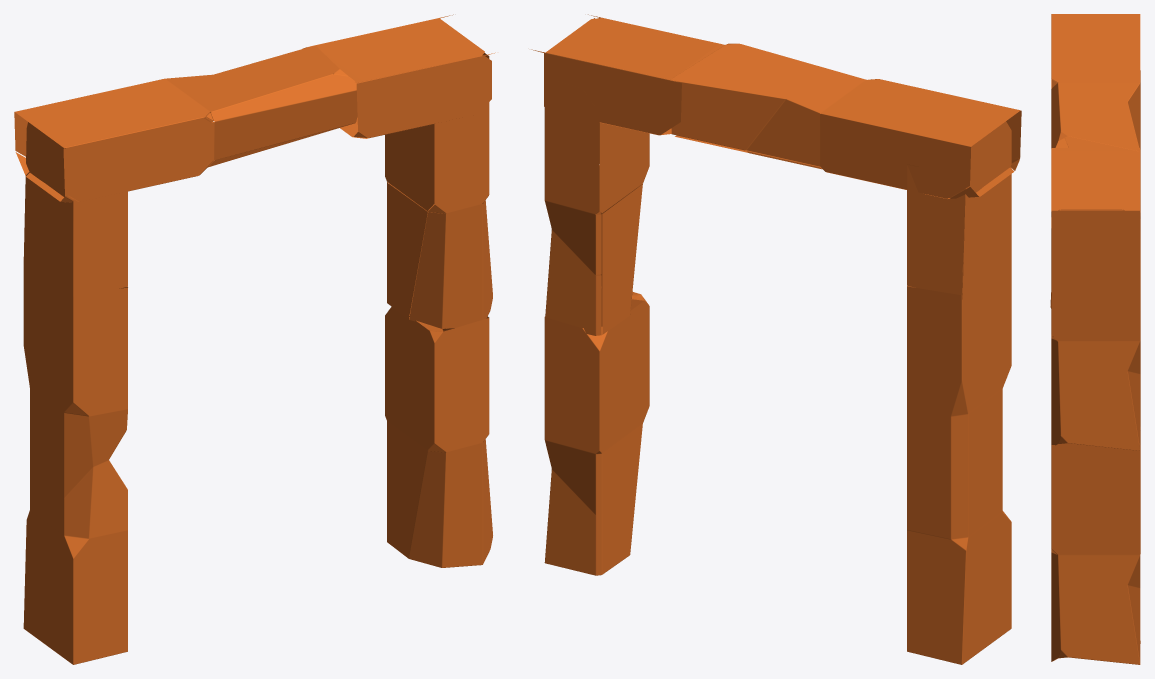
File: gate1.fbx
3 renders of one model, left to right at view 1: azimuth 30°, elevation 25°; view 2: azimuth 150°, elevation 25°; view 3: azimuth 270°, elevation 25°, orthographic. The views are drawn at different scales.
Parts seen in each view (by area): view 1: Plane; view 2: Plane; view 3: Plane.
Part boxes in pixels (box(x1,y1,x2,y2)): Plane: box(14, 14, 495, 664); Plane: box(531, 14, 1021, 664); Plane: box(1050, 14, 1140, 664).
Size of the model in its own units: 290 by 326 by 56.86.
